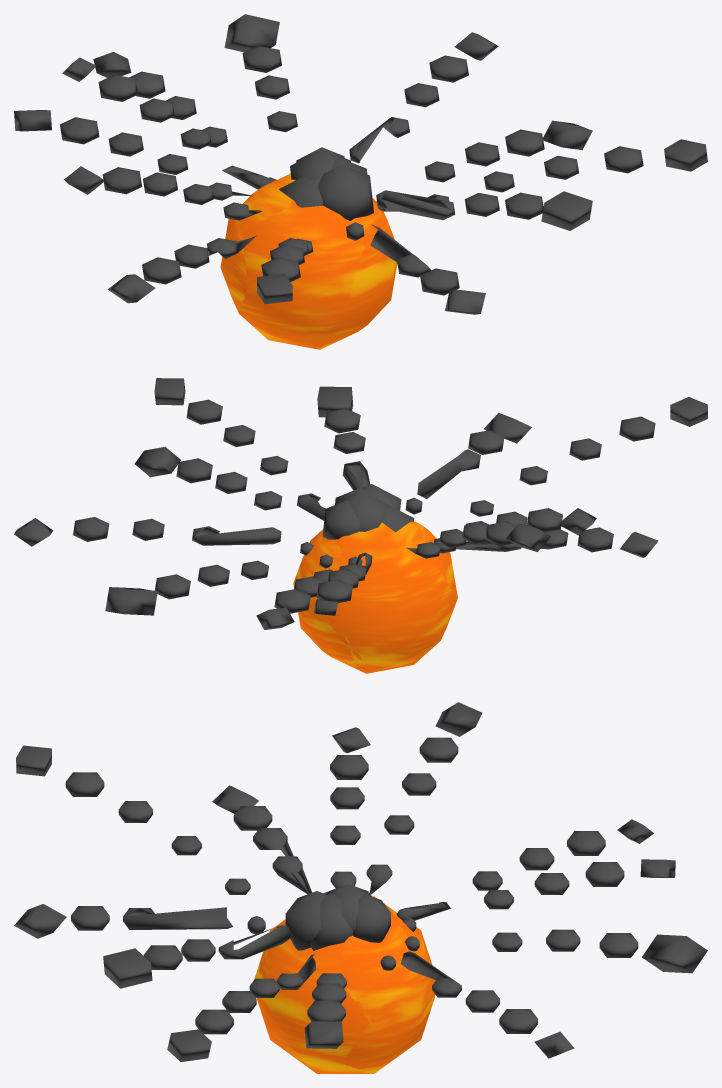
The picture shows the model from 3 angles, top to bottom: view 1: azimuth 30°, elevation 25°; view 2: azimuth 150°, elevation 25°; view 3: azimuth 270°, elevation 25°; orthographic projection. The views are drawn at different scales.
Parts seen in each view (by area): view 1: FPS_Explosion; view 2: FPS_Explosion; view 3: FPS_Explosion.
Boxes of the visible parts, x1,y1,x2,y2 form: FPS_Explosion: (14, 14, 707, 349); FPS_Explosion: (14, 378, 707, 673); FPS_Explosion: (14, 702, 707, 1073).
Bounding box in the file's own units: 11.13 × 4.63 × 11.55.
2 materials, 1 textured.
